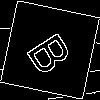B: (25, 25, 82, 78)
